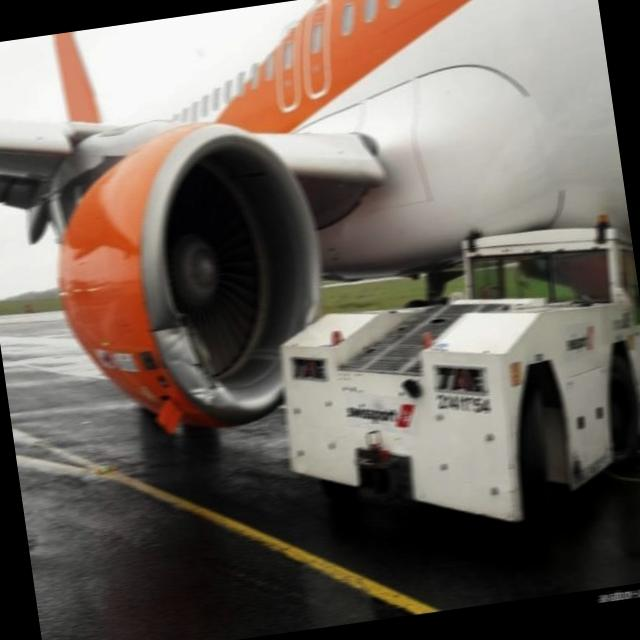crack: (170, 310, 223, 394)
dent: (155, 318, 184, 354), (186, 385, 220, 406), (300, 297, 322, 329)
